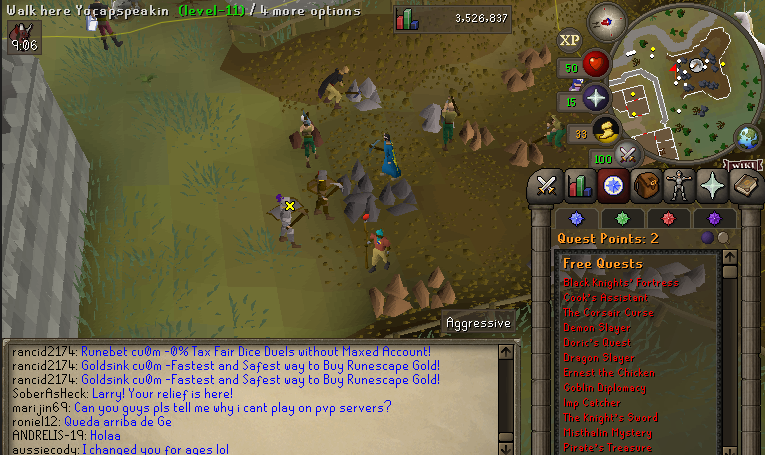depleted: (340, 189, 387, 229), (334, 159, 379, 200), (383, 178, 420, 223)
iron: (289, 118, 326, 158)
